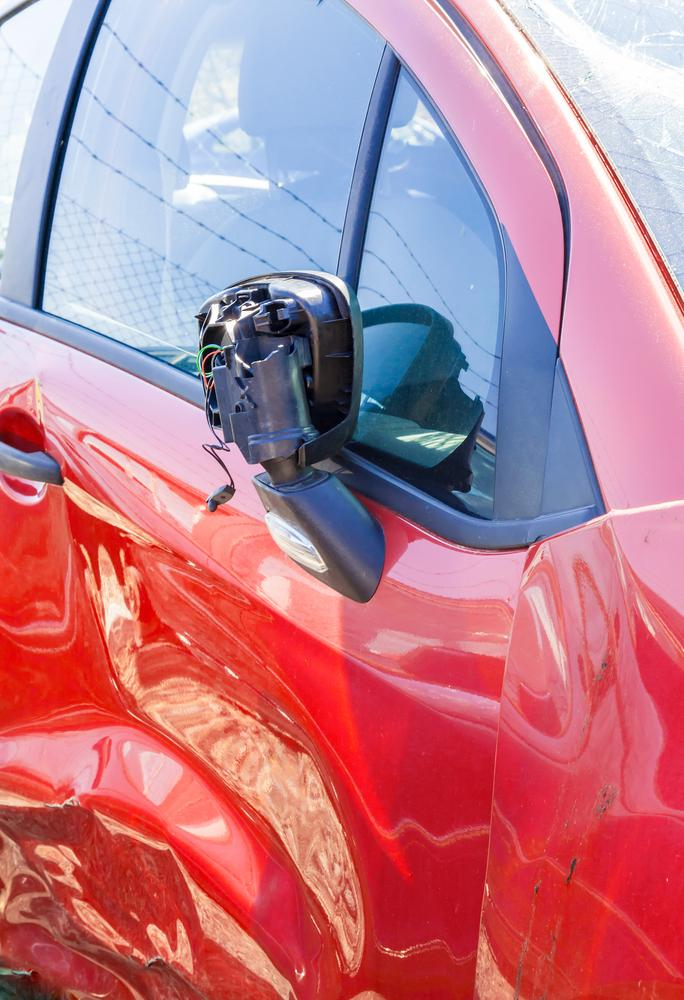dent: (0, 489, 367, 976), (0, 798, 289, 998)
